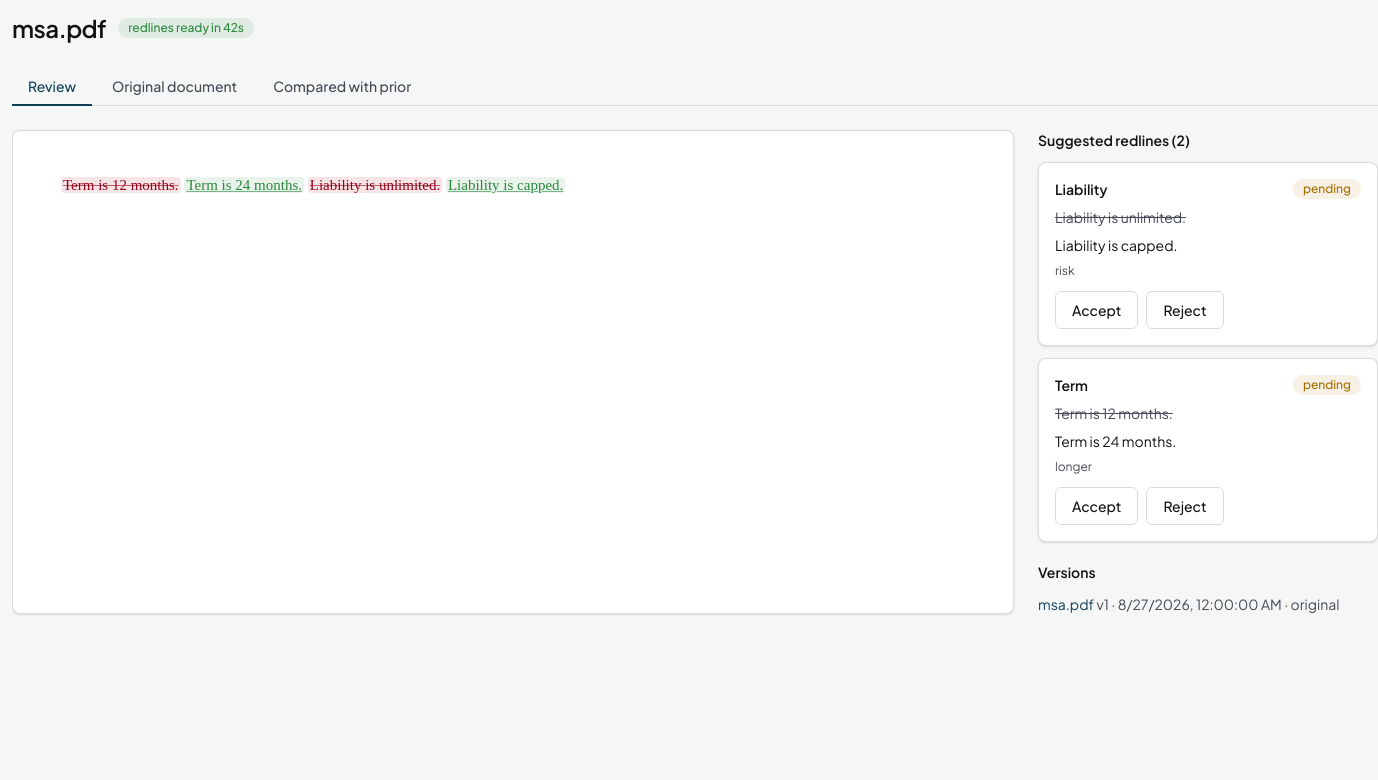
Test case: failed confirm prunes staged ids that are no longer pending
Click the button "Accept" below "risk": point(1097, 310) x1=1055 y1=291 x2=1138 y2=329
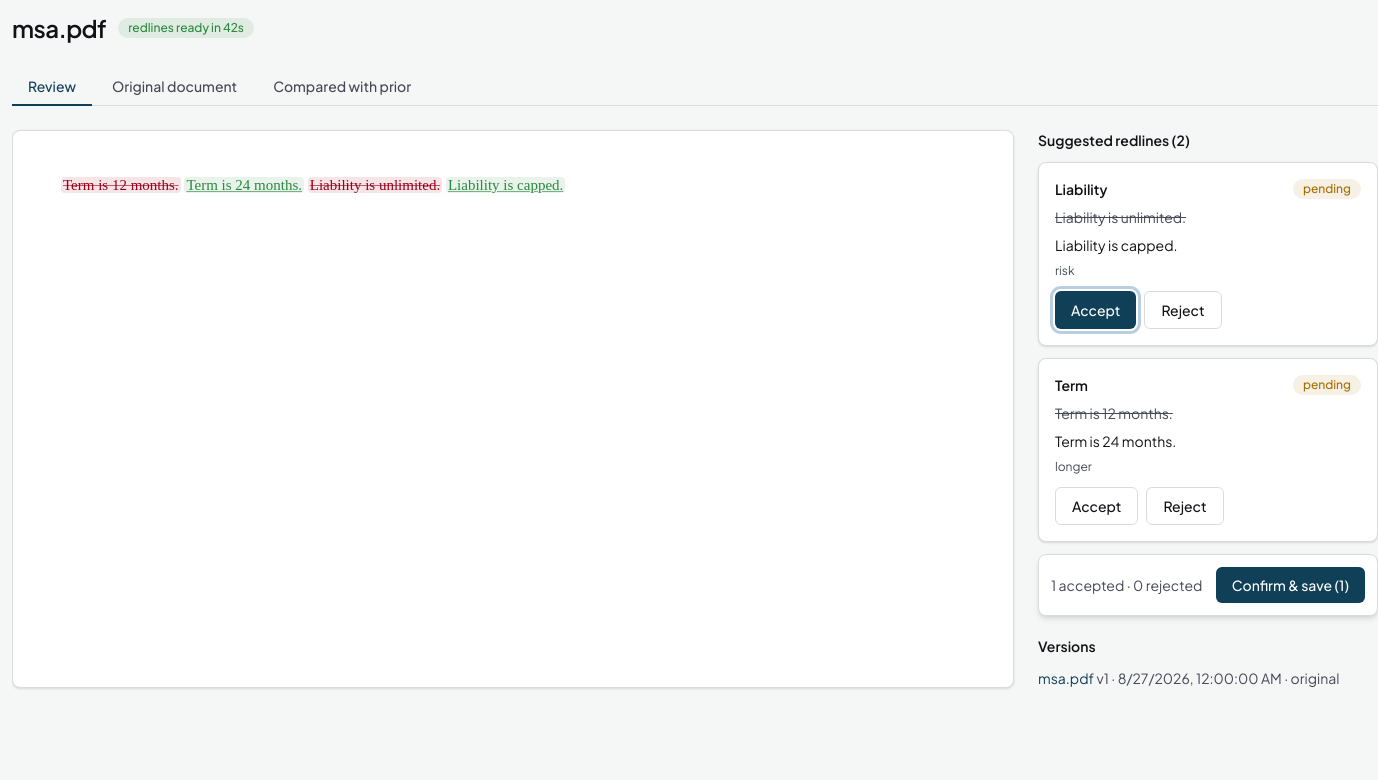
Click the button "Accept" below "longer": point(1097, 506) x1=1055 y1=487 x2=1138 y2=525
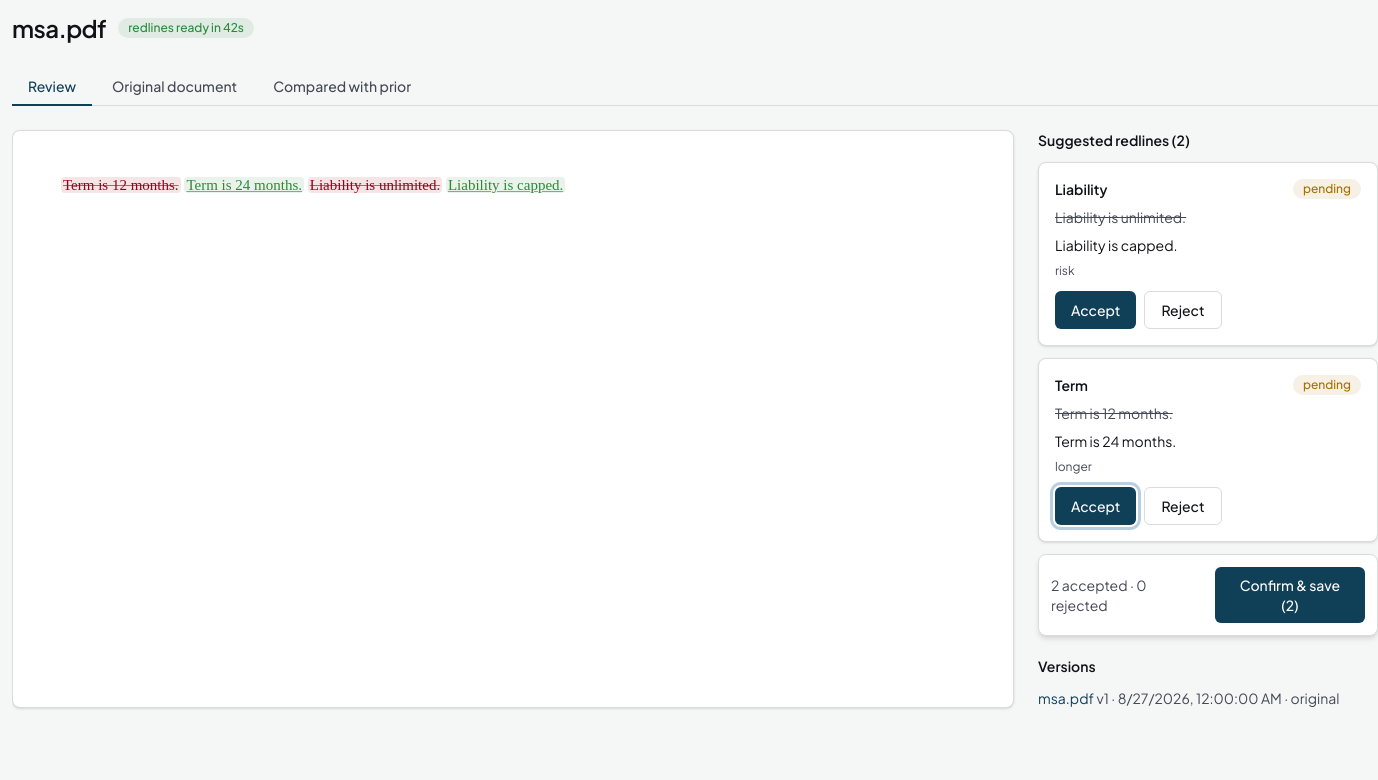
Click the button "Confirm & save (2)": point(1290, 595) x1=1215 y1=567 x2=1365 y2=623
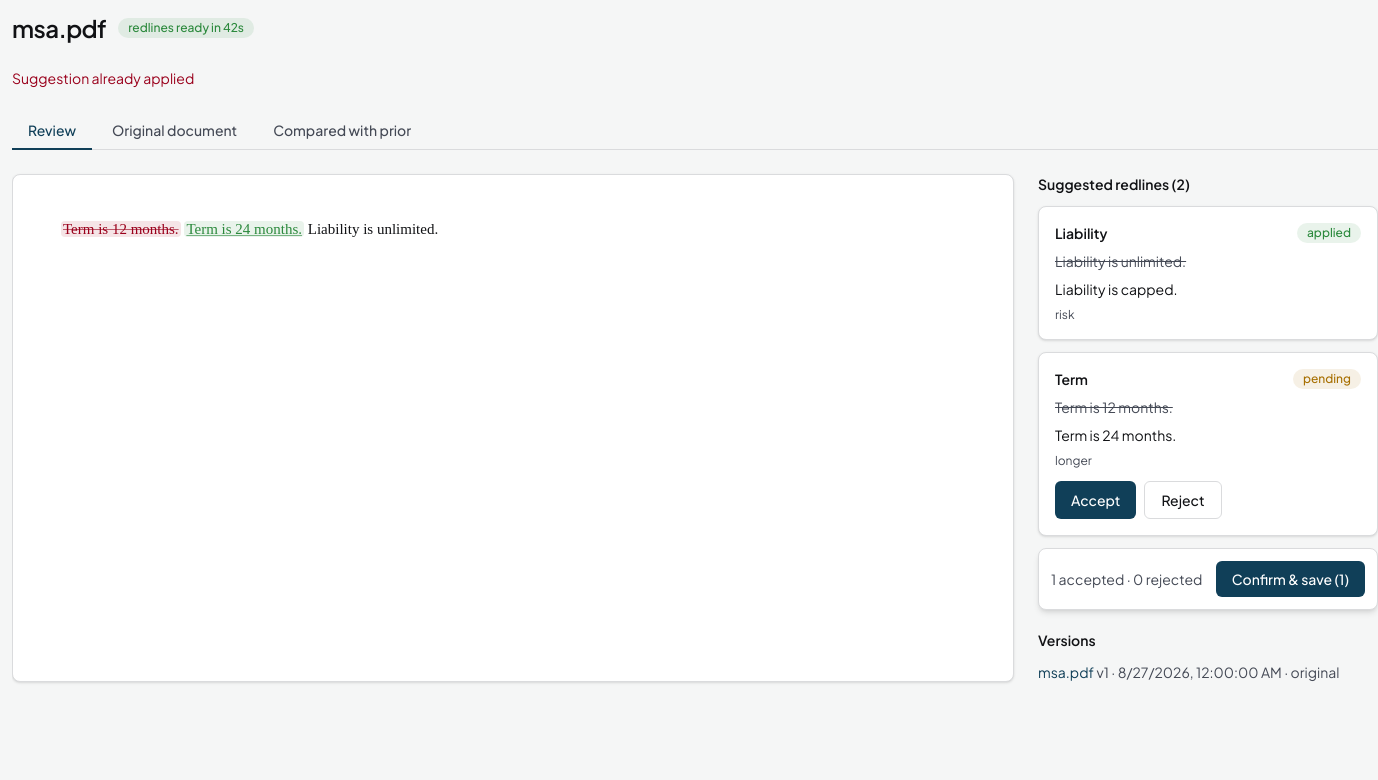
Result: the text "Suggestion already applied" is shown at x1=12 y1=69 x2=194 y2=87
Result: the button "Confirm & save (1)" is shown at x1=1216 y1=561 x2=1365 y2=597
